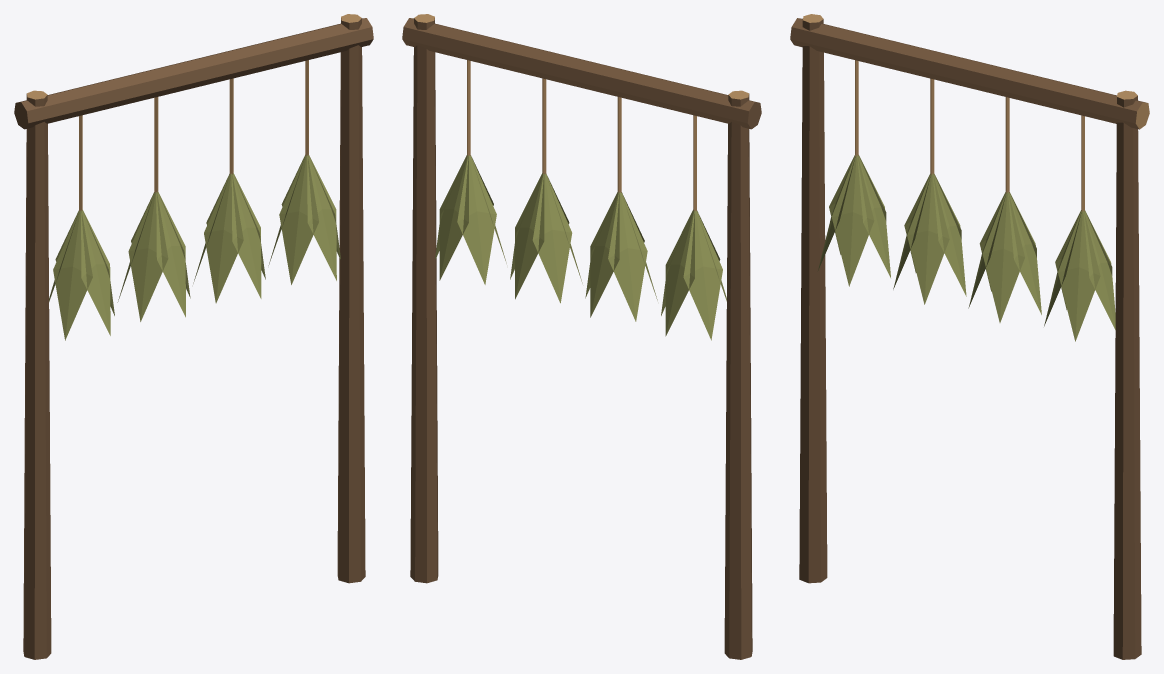
The model's file is drying_rack.glb.
3 renders of one model, left to right at view 1: azimuth 30°, elevation 25°; view 2: azimuth 150°, elevation 25°; view 3: azimuth 330°, elevation 25°, orthographic.
Visible parts, largest first — view 1: Drying rack • twine and suspended herbs; view 2: Drying rack • twine and suspended herbs; view 3: Drying rack • twine and suspended herbs.
Part boxes in pixels (x1,y1,x2,y2): Drying rack • twine and suspended herbs: [14, 14, 373, 659]; Drying rack • twine and suspended herbs: [402, 14, 761, 659]; Drying rack • twine and suspended herbs: [790, 14, 1149, 659].
Size of the model in its own units: 1.1 by 1.7 by 0.2073.
